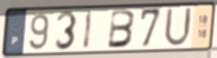3: (54, 9, 80, 52)
7: (139, 7, 163, 51)
9: (27, 12, 52, 51)
B: (105, 9, 137, 50)
I: (81, 9, 95, 51)
U: (162, 7, 194, 50)
